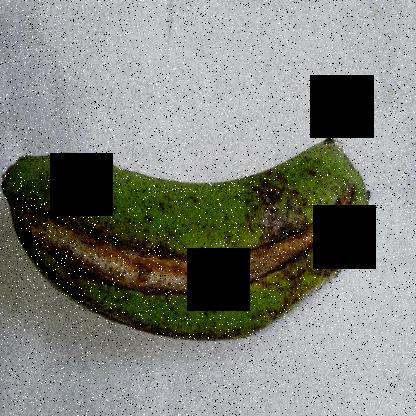rotten: (0, 189, 372, 330)
